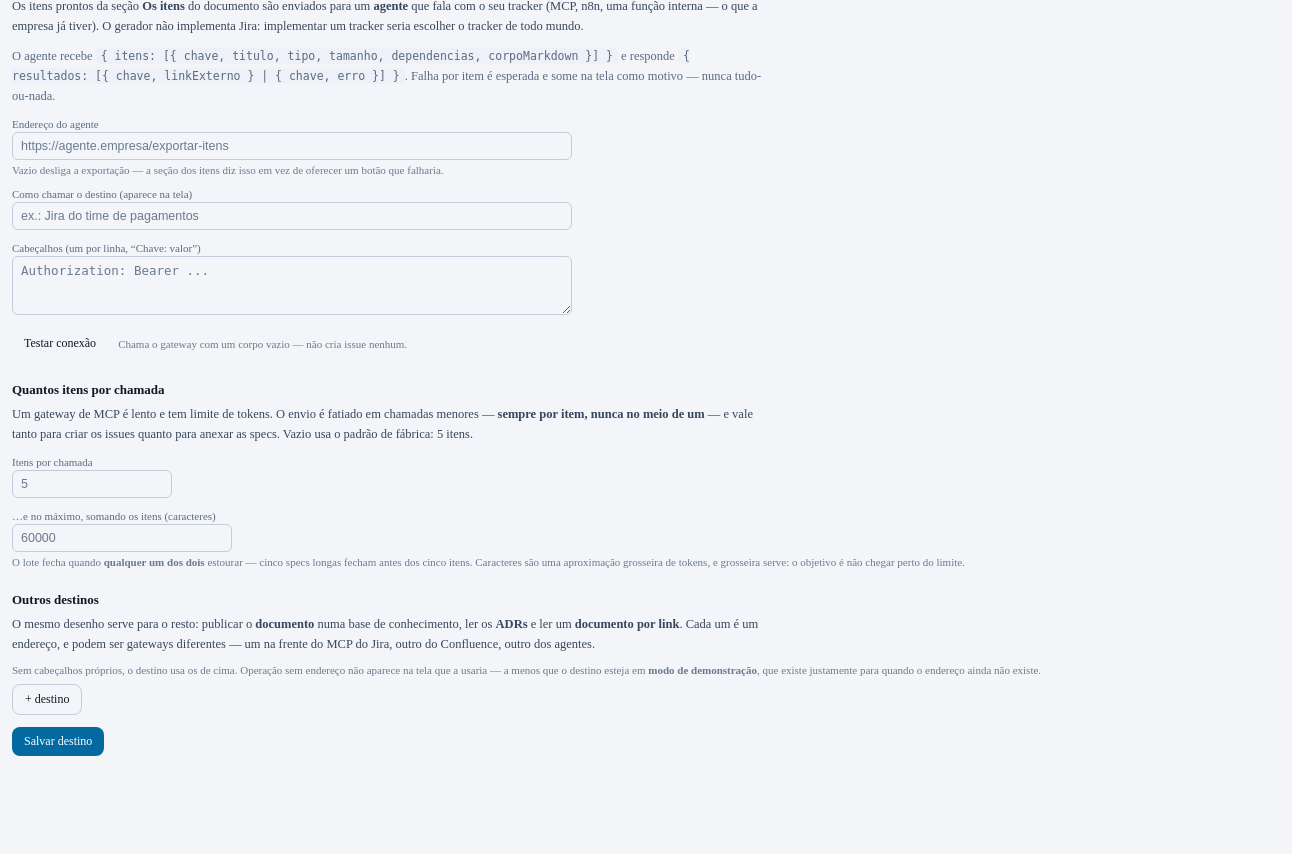
os destinos do gateway na tela (SPEC-81 fatia A) › o destino em modo de demonstração (SPEC-115 fatia D) › com a caixa marcada, o campo de endereço fica desabilitado — não há o que preencher
Expected: the element with test id "destinos-do-gateway" is shown, [12, 592, 1041, 715]
Click the button with test id "adicionar-destino".
click(47, 700)  # box [12, 684, 82, 715]
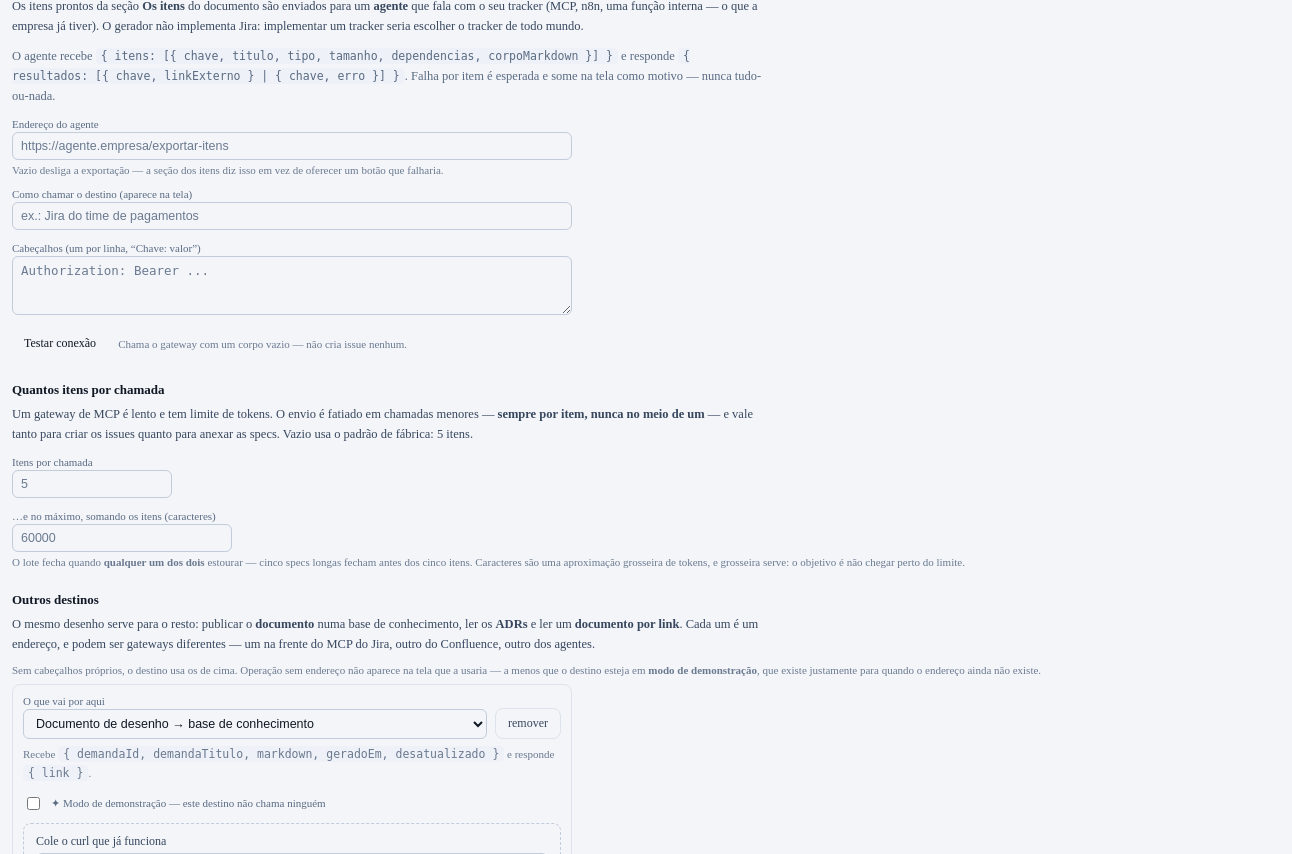
Click the checkbox named "Modo de demonstração do destino 1".
click(34, 804)  # box [27, 797, 40, 810]
(page scrolled)
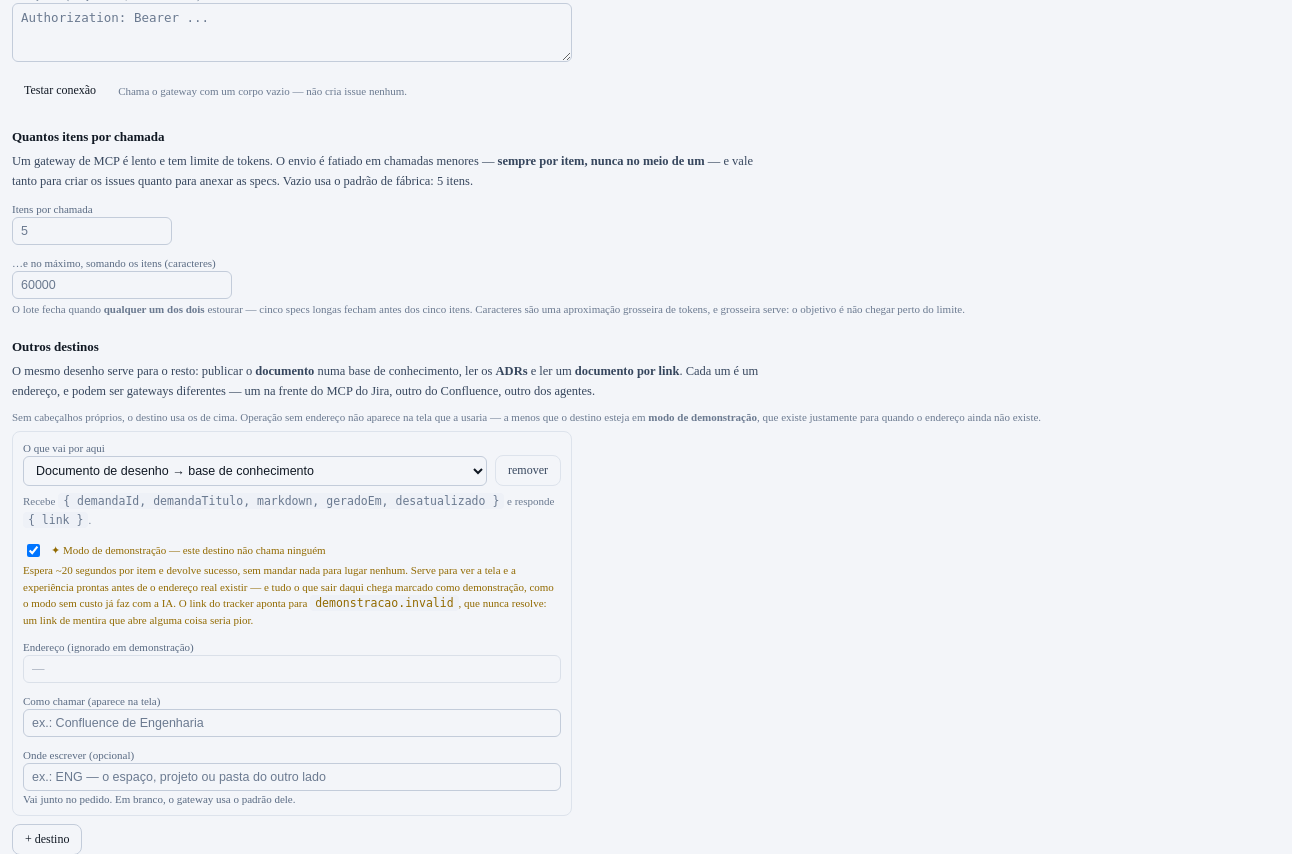
Now the field named "Endereço do destino 1" is disabled, box [23, 655, 561, 683]
